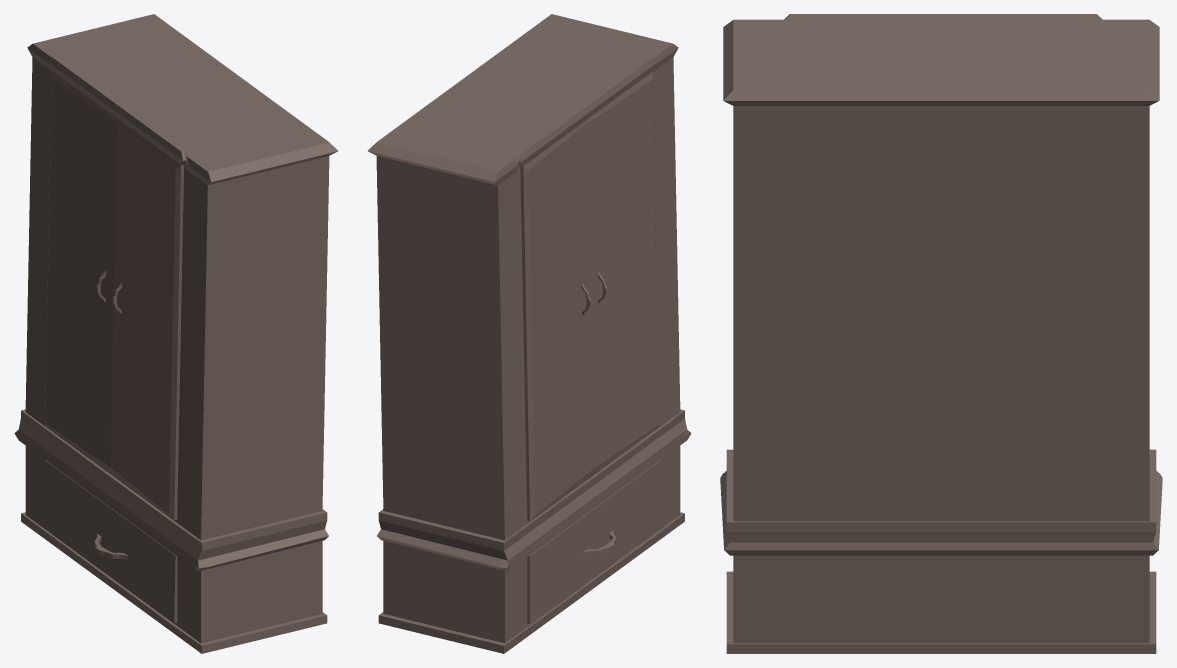
Rendered from Big_Cabinet.fbx.
3 views of the same model, side by side, from view 1: azimuth 30°, elevation 25°; view 2: azimuth 150°, elevation 25°; view 3: azimuth 270°, elevation 25° (orthographic). The views are drawn at different scales.
Parts seen in each view (by area): view 1: Big_Cabinet; view 2: Big_Cabinet; view 3: Big_Cabinet.
Boxes of the visible parts, x1,y1,x2,y2 form: Big_Cabinet: (14,14,338,653); Big_Cabinet: (368,14,691,653); Big_Cabinet: (720,14,1162,653).
Bounding box in the file's own units: 234 × 714 × 502.
